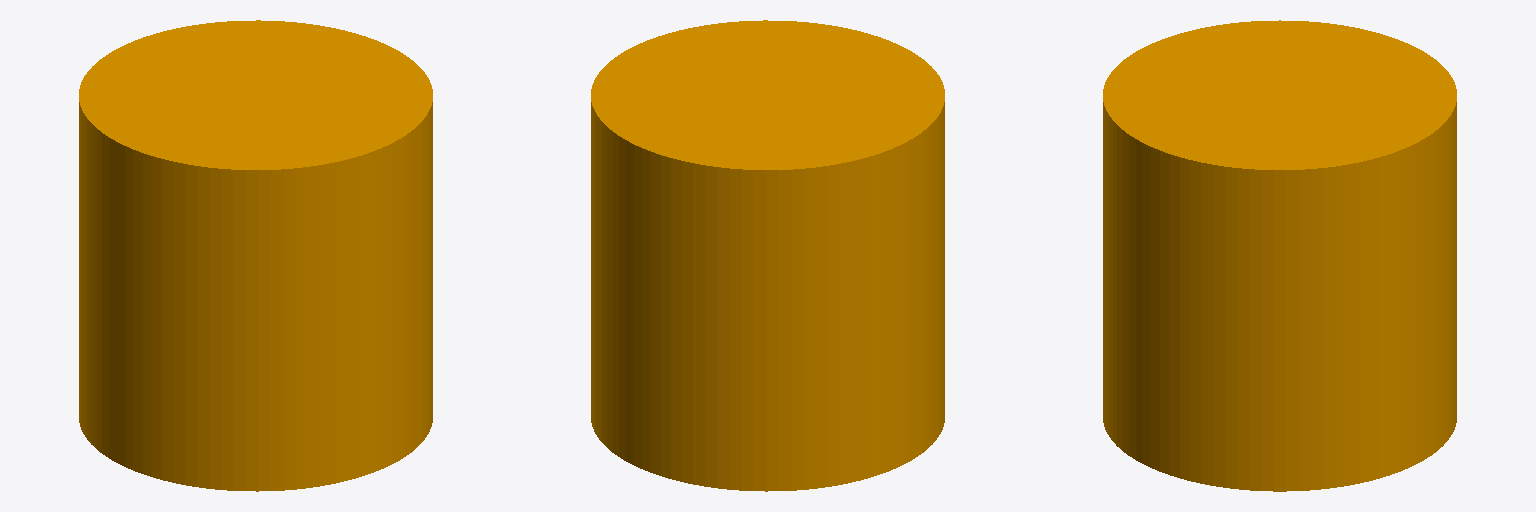
The robot description file, URDF, robot "lidar_sens":
<?xml version="1.0" ?>
<robot name="lidar_sens">

<link name="lidar_sens_base_link">
  <inertial>
    <origin xyz="-5.228397220519779e-13 0.0 0.0025000000000000005" rpy="0 0 0"/>
    <mass value="0.0007706719478337129"/>
    <inertia ixx="0.0" iyy="0.0" izz="0.0" ixy="0.0" iyz="0.0" ixz="0.0"/>
  </inertial>
  <visual>
    <origin xyz="0 0 0" rpy="0 0 0"/>
    <geometry>
      <mesh filename="meshes/lidar_sens_base_link.stl" scale="0.001 0.001 0.001"/>
    </geometry>
    <material name="silver"/>
  </visual>
  <collision>
    <origin xyz="0 0 0" rpy="0 0 0"/>
    <geometry>
      <mesh filename="meshes/lidar_sens_base_link.stl" scale="0.001 0.001 0.001"/>
    </geometry>
  </collision>
</link>

<link name="lidar_sens_AP_1">
  <inertial>
    <origin xyz="0.0 0.0 0.0" rpy="0 0 0"/>
    <mass value="4.110250388446646e-06"/>
    <inertia ixx="0.0" iyy="0.0" izz="0.0" ixy="0.0" iyz="0.0" ixz="0.0"/>
  </inertial>
  
  
</link>

<joint name="Rigid 1" type="fixed">
  <origin xyz="0.0 0.0 0.0" rpy="0 0 0"/>
  <parent link="lidar_sens_base_link"/>
  <child link="lidar_sens_AP_1"/>
</joint>

</robot>

--- Facts derived from the render (not from the file) ---
Views: 3 orthographic renders of the robot side by side, from view 1: azimuth 30°, elevation 25°; view 2: azimuth 150°, elevation 25°; view 3: azimuth 270°, elevation 25°.
Robot: lidar_sens — 2 links, 1 joints (1 fixed); root link lidar_sens_base_link; default pose: all joints at 0.
Visible links, largest first — view 1: lidar_sens_base_link; view 2: lidar_sens_base_link; view 3: lidar_sens_base_link.
Boxes of the visible links, x1,y1,x2,y2 form: lidar_sens_base_link: (79, 20, 432, 491); lidar_sens_base_link: (591, 20, 944, 491); lidar_sens_base_link: (1103, 20, 1456, 491).
Bounding box of the posed robot: 0.005 × 0.005 × 0.005 m (x, y, z).
1 mesh visuals loaded from 1 distinct referenced files (1 binary STL).